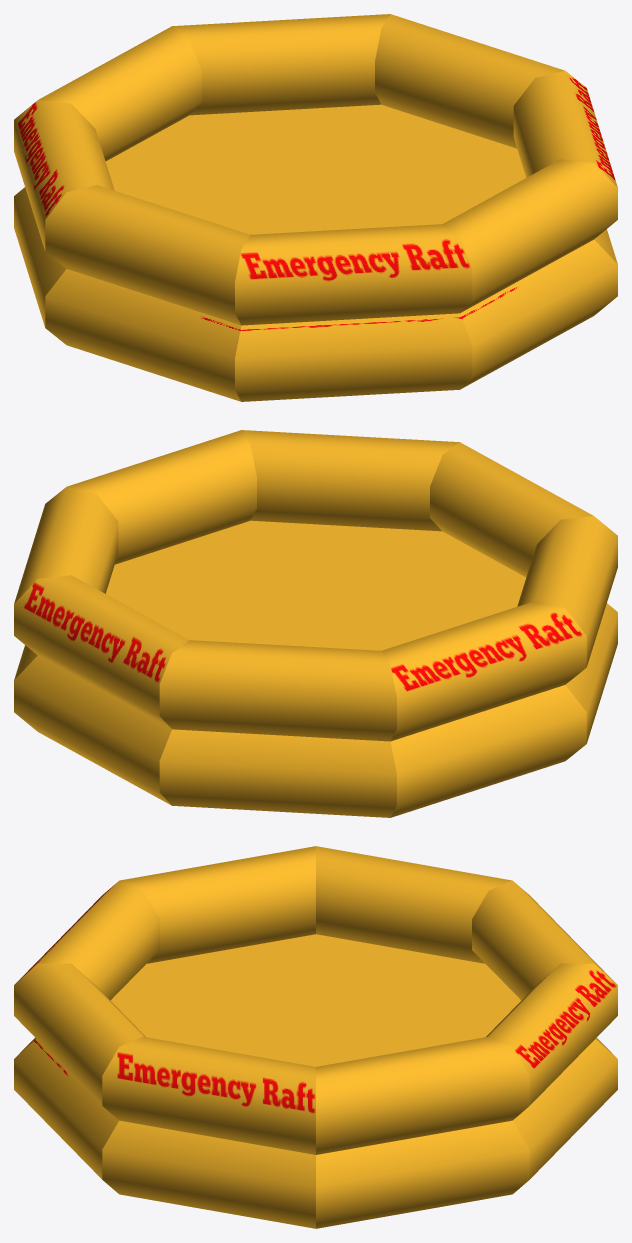
File: LifeRaft.fbx
3 views of the same model, one above another, from view 1: azimuth 30°, elevation 25°; view 2: azimuth 150°, elevation 25°; view 3: azimuth 270°, elevation 25° (orthographic). The views are drawn at different scales.
Visible parts, largest first — view 1: LifeRaft:Floor_Bottom, LifeRaft:UpperTube_5, LifeRaft:LowerTube_5, LifeRaft:UpperTube_6, LifeRaft:UpperTube_1, LifeRaft:LowerTube_6, LifeRaft:UpperTube_4, LifeRaft:UpperTube_2, LifeRaft:UpperTube_8, LifeRaft:LowerTube_4, LifeRaft:UpperTube_7, LifeRaft:UpperTube_3 (+1 smaller); view 2: LifeRaft:Floor_Bottom, LifeRaft:UpperTube_8, LifeRaft:LowerTube_8, LifeRaft:UpperTube_7, LifeRaft:UpperTube_4, LifeRaft:LowerTube_7, LifeRaft:UpperTube_1, LifeRaft:UpperTube_3, LifeRaft:UpperTube_5, LifeRaft:LowerTube_1, LifeRaft:UpperTube_6, LifeRaft:UpperTube_2 (+1 smaller); view 3: LifeRaft:Floor_Bottom, LifeRaft:UpperTube_2, LifeRaft:UpperTube_3, LifeRaft:LowerTube_2, LifeRaft:LowerTube_3, LifeRaft:UpperTube_6, LifeRaft:UpperTube_7, LifeRaft:UpperTube_1, LifeRaft:UpperTube_4, LifeRaft:UpperTube_5, LifeRaft:UpperTube_8, LifeRaft:LowerTube_1 (+1 smaller).
Boxes of the visible parts, bbox=[...] form: LifeRaft:Floor_Bottom: bbox=[105, 104, 526, 234]; LifeRaft:UpperTube_5: bbox=[235, 224, 472, 325]; LifeRaft:LowerTube_5: bbox=[235, 313, 472, 401]; LifeRaft:UpperTube_6: bbox=[45, 185, 250, 325]; LifeRaft:UpperTube_1: bbox=[172, 14, 390, 115]; LifeRaft:LowerTube_6: bbox=[45, 269, 241, 401]; LifeRaft:UpperTube_4: bbox=[443, 159, 617, 312]; LifeRaft:UpperTube_2: bbox=[375, 14, 564, 148]; LifeRaft:UpperTube_8: bbox=[38, 26, 201, 160]; LifeRaft:LowerTube_4: bbox=[460, 240, 617, 389]; LifeRaft:UpperTube_7: bbox=[14, 100, 114, 250]; LifeRaft:UpperTube_3: bbox=[513, 70, 617, 187]; LifeRaft:Floor_Bottom: bbox=[105, 520, 526, 650]; LifeRaft:UpperTube_8: bbox=[159, 640, 396, 741]; LifeRaft:LowerTube_8: bbox=[159, 729, 396, 817]; LifeRaft:UpperTube_7: bbox=[381, 601, 586, 741]; LifeRaft:UpperTube_4: bbox=[241, 430, 459, 531]; LifeRaft:LowerTube_7: bbox=[390, 685, 586, 817]; LifeRaft:UpperTube_1: bbox=[14, 575, 188, 728]; LifeRaft:UpperTube_3: bbox=[67, 430, 256, 564]; LifeRaft:UpperTube_5: bbox=[430, 442, 593, 576]; LifeRaft:LowerTube_1: bbox=[14, 656, 171, 805]; LifeRaft:UpperTube_6: bbox=[517, 516, 617, 666]; LifeRaft:UpperTube_2: bbox=[14, 486, 118, 603]; LifeRaft:Floor_Bottom: bbox=[110, 934, 521, 1066]; LifeRaft:UpperTube_2: bbox=[316, 1036, 529, 1154]; LifeRaft:UpperTube_3: bbox=[102, 1036, 315, 1154]; LifeRaft:LowerTube_2: bbox=[316, 1120, 529, 1228]; LifeRaft:LowerTube_3: bbox=[102, 1120, 315, 1228]; LifeRaft:UpperTube_6: bbox=[120, 846, 315, 963]; LifeRaft:UpperTube_7: bbox=[316, 846, 511, 963]; LifeRaft:UpperTube_1: bbox=[486, 963, 617, 1105]; LifeRaft:UpperTube_4: bbox=[14, 963, 145, 1105]; LifeRaft:UpperTube_5: bbox=[15, 880, 159, 1000]; LifeRaft:UpperTube_8: bbox=[472, 880, 616, 1000]; LifeRaft:LowerTube_1: bbox=[512, 1039, 617, 1179].
Size of the model in its own units: 274 by 73.91 by 274.
